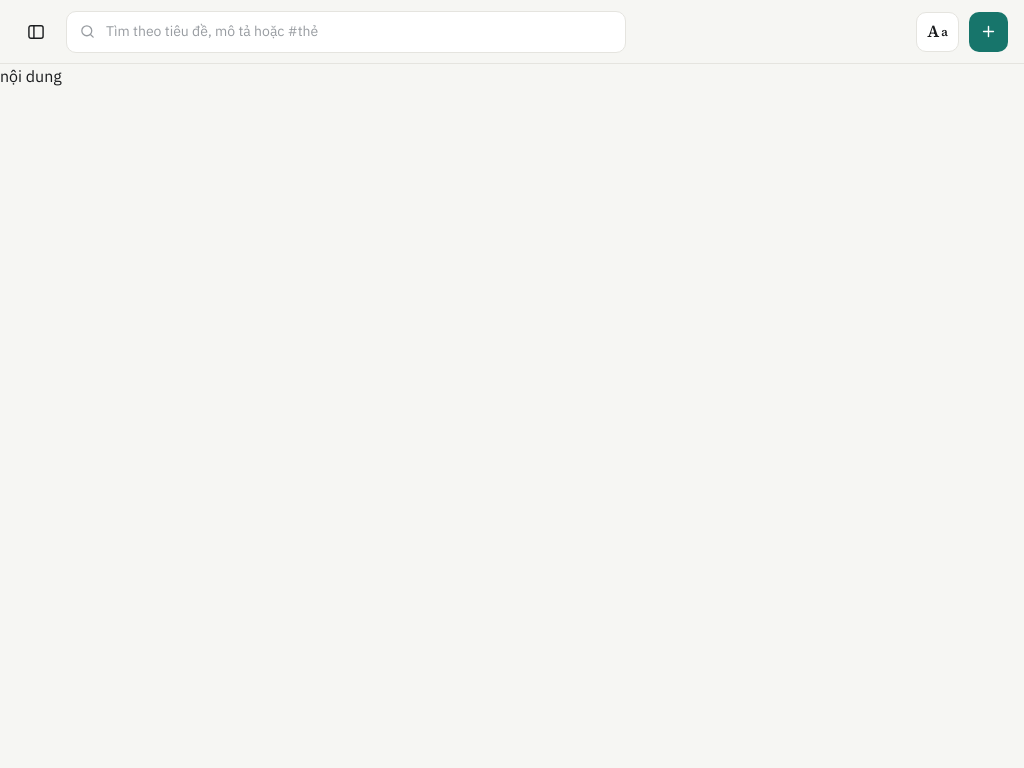
Test case: ShellClient › Escape closes the drawer
This screenshot has width=1024, height=768.
Click the button named "Mở thanh bên".
click(36, 32)  # box [16, 12, 56, 52]
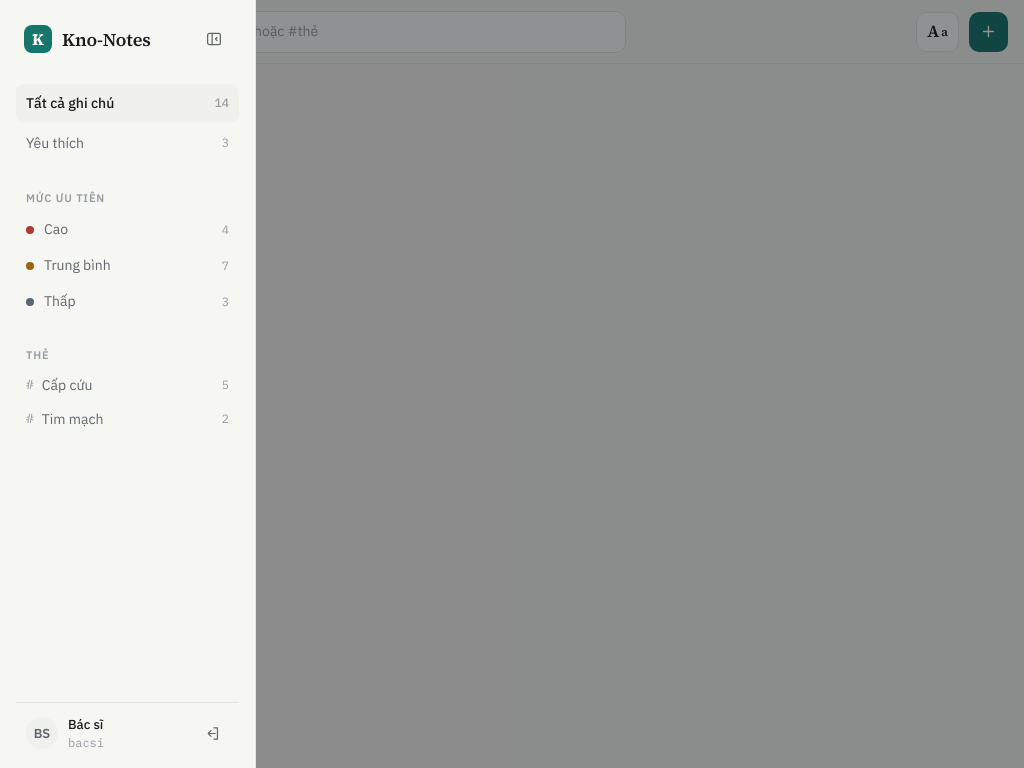
Press Escape
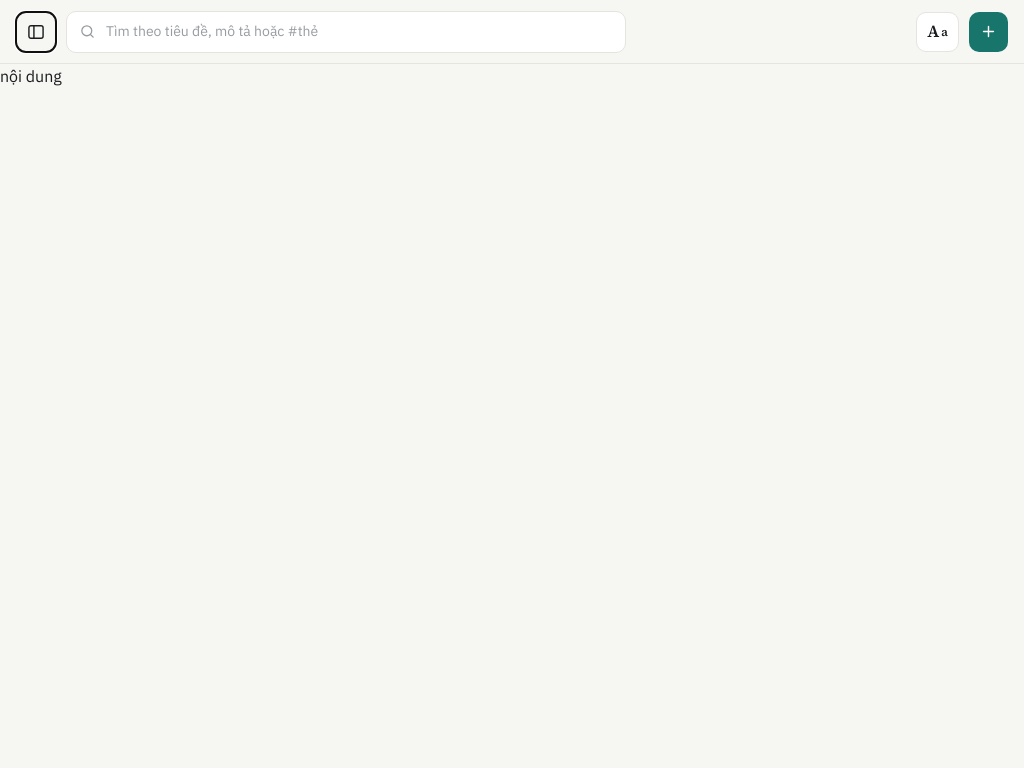
Now the element with test id "drawer-backdrop" is gone
